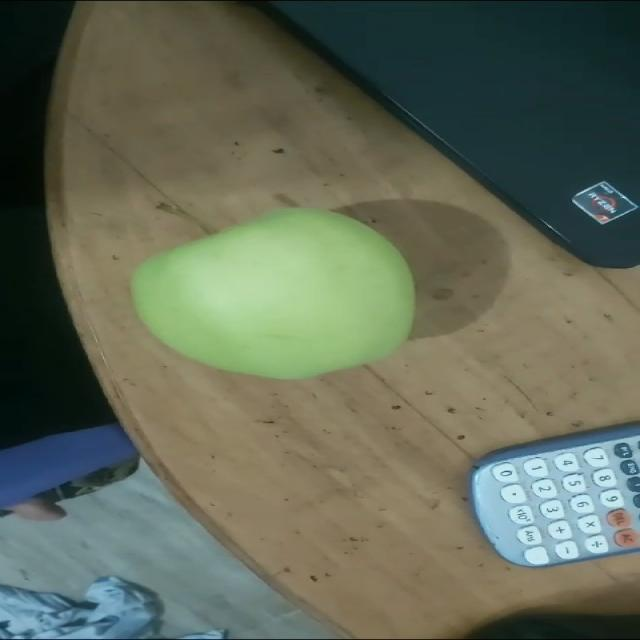50-_ripeness: (132, 209, 415, 379)
